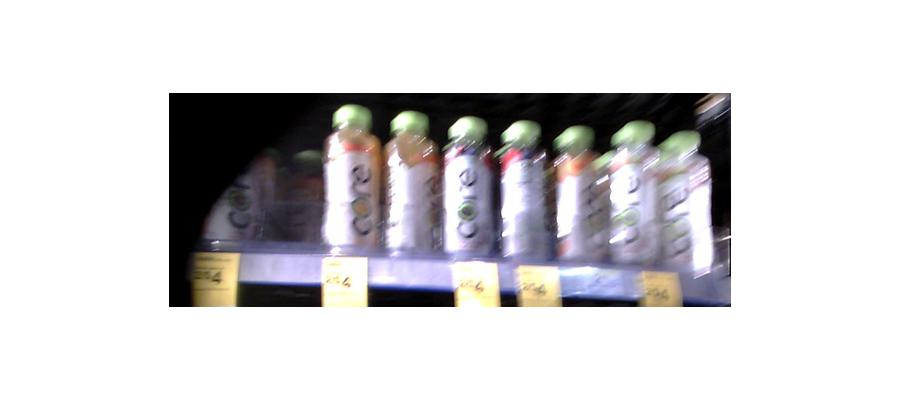bottle: (500, 118, 555, 301), (322, 106, 384, 263), (443, 116, 496, 290), (383, 116, 440, 260), (657, 127, 712, 272), (604, 124, 657, 268), (556, 127, 603, 273)
